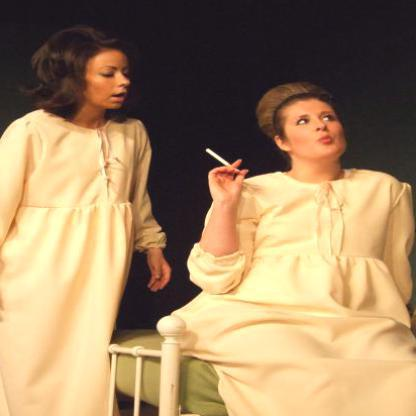cigarette: (206, 147, 233, 170)
person: (206, 83, 415, 380), (0, 32, 161, 352)
